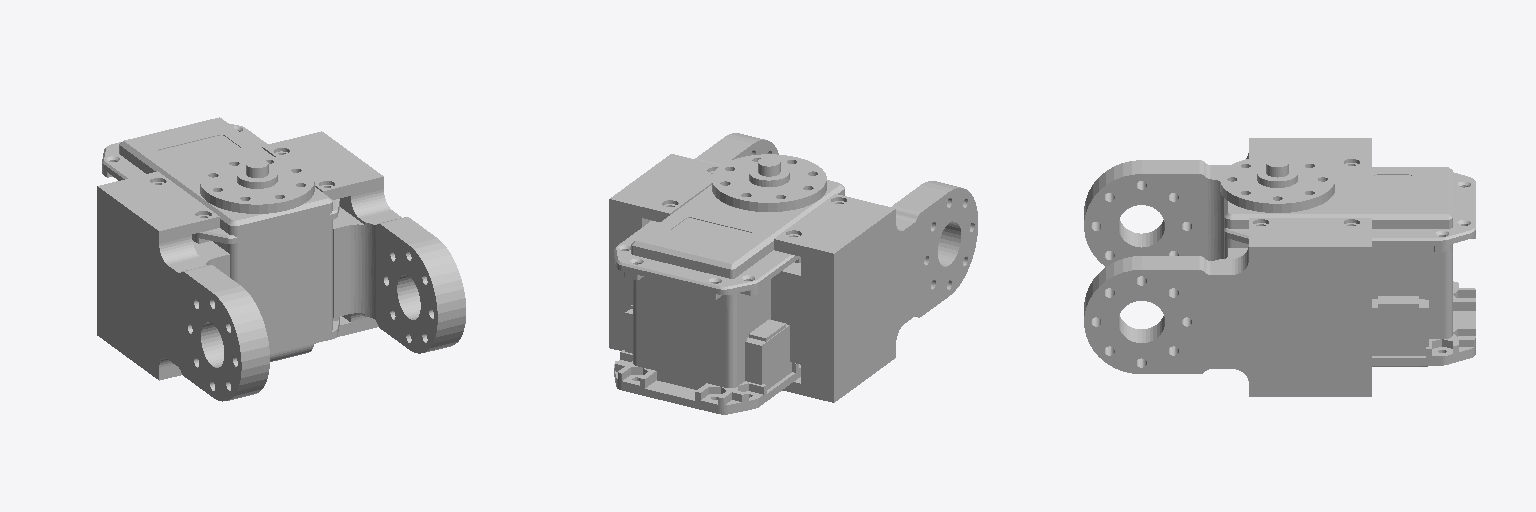
3 renders of one model, left to right at view 1: azimuth 30°, elevation 25°; view 2: azimuth 150°, elevation 25°; view 3: azimuth 270°, elevation 25°, orthographic.
Visible parts, largest first — view 1: Body1; view 2: Body1; view 3: Body1.
Part boxes in pixels (bbox=[...]): Body1: bbox=[97, 117, 465, 401]; Body1: bbox=[609, 133, 977, 414]; Body1: bbox=[1084, 138, 1475, 396].
Size of the model in its own units: 0.063 by 0.05 by 0.0951.